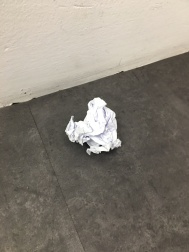paper_white: (53, 89, 136, 166)
